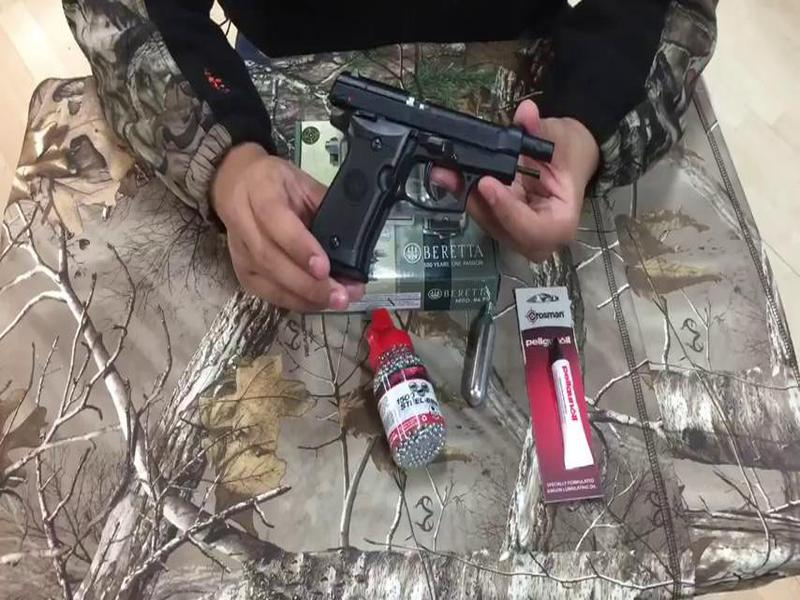Pistola: (281, 54, 556, 283)
